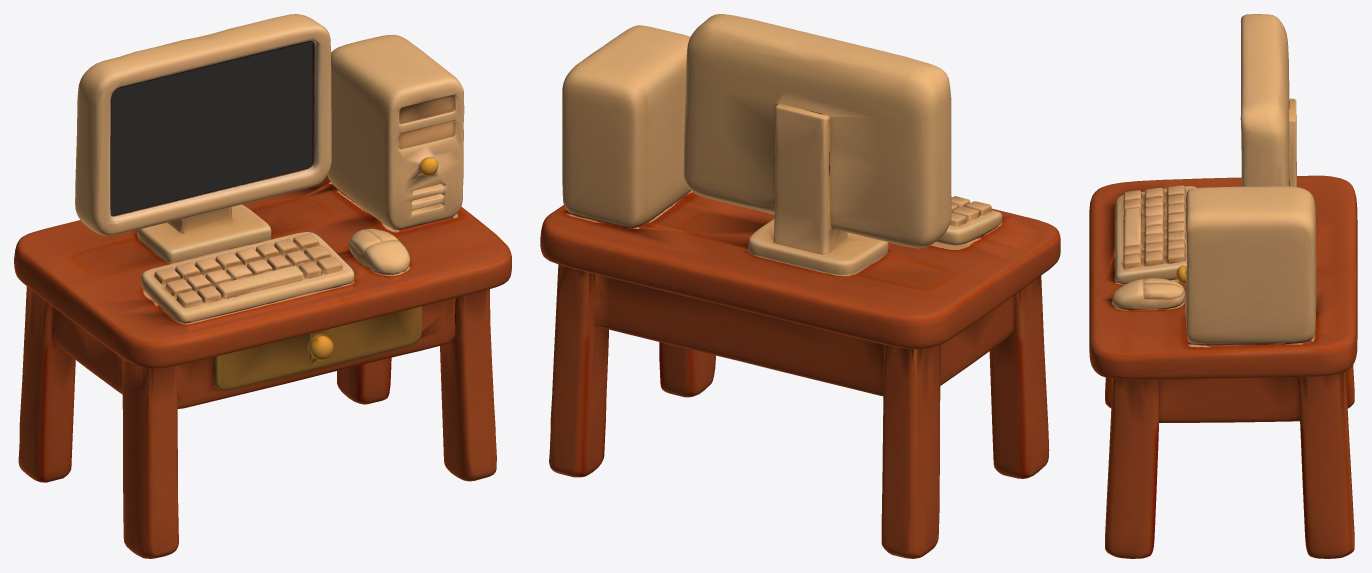
The model's file is computer.glb.
The picture shows the model from 3 angles, left to right: view 1: azimuth 30°, elevation 25°; view 2: azimuth 150°, elevation 25°; view 3: azimuth 270°, elevation 25°; orthographic projection. The views are drawn at different scales.
Parts seen in each view (by area): view 1: computer, screen; view 2: computer; view 3: computer.
Part boxes in pixels (box(x1,y1,x2,y2)): computer: box(14, 14, 511, 558); screen: box(110, 41, 312, 215); computer: box(540, 14, 1060, 558); computer: box(1089, 14, 1357, 558).
Bounding box in the file's own units: 1.32 × 1.41 × 0.8491.
2 materials, 1 textured.
